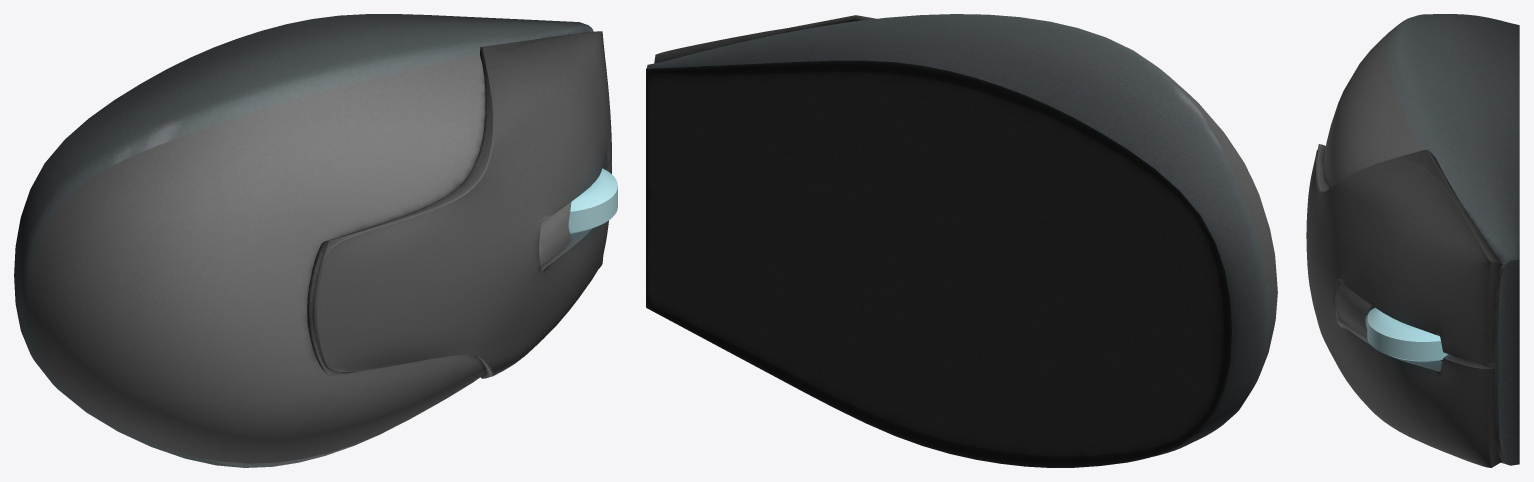
Rendered from mouse.glb.
3 views of the same model, side by side, from view 1: azimuth 30°, elevation 25°; view 2: azimuth 150°, elevation 25°; view 3: azimuth 270°, elevation 25° (orthographic). The views are drawn at different scales.
Visible parts, largest first — view 1: 10106_Computer Mouse_v1_L3; view 2: 10106_Computer Mouse_v1_L3; view 3: 10106_Computer Mouse_v1_L3.
Part boxes in pixels (box(x1,y1,x2,y2)): 10106_Computer Mouse_v1_L3: box(14, 14, 617, 467); 10106_Computer Mouse_v1_L3: box(646, 14, 1277, 467); 10106_Computer Mouse_v1_L3: box(1306, 14, 1519, 467).
Bounding box in the file's own units: 12.18 × 7.72 × 4.3.
Materials: 1 (1 with a texture image).
